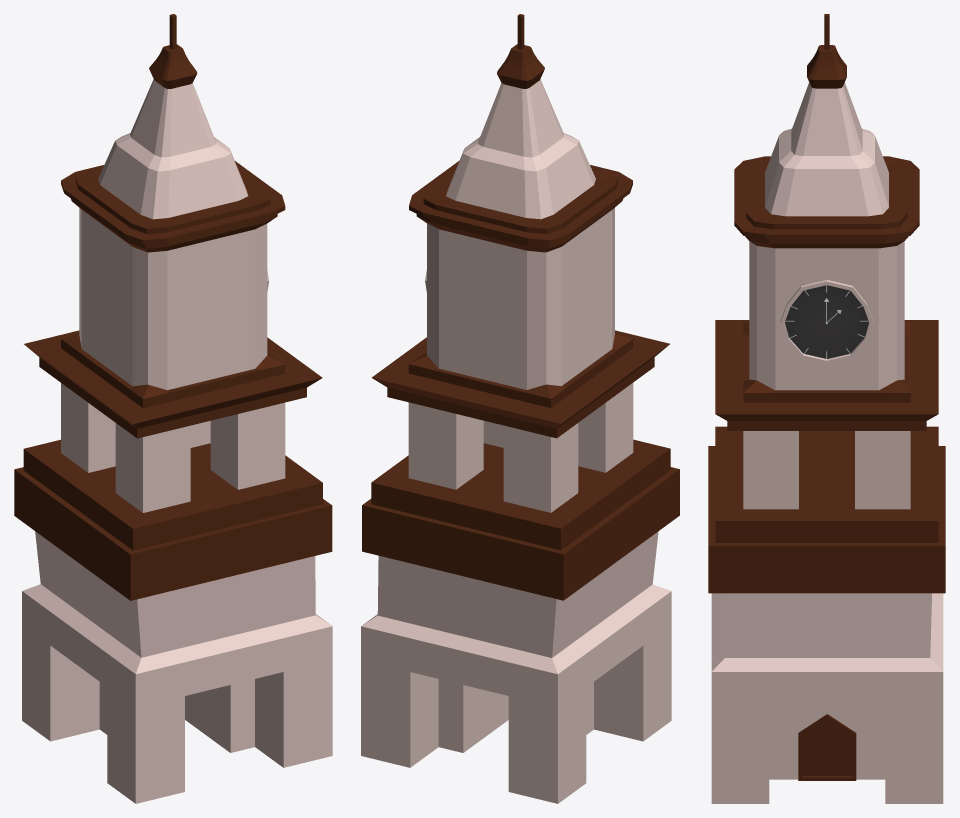
Rendered from clocktower.fbx.
The picture shows the model from 3 angles, left to right: view 1: azimuth 30°, elevation 25°; view 2: azimuth 150°, elevation 25°; view 3: azimuth 270°, elevation 25°; orthographic projection.
Parts seen in each view (by area): view 1: Cube.015; view 2: Cube.015; view 3: Cube.015.
Boxes of the visible parts, x1,y1,x2,y2 form: Cube.015: (14, 14, 332, 803); Cube.015: (361, 14, 679, 803); Cube.015: (708, 14, 945, 803).
Size of the model in its own units: 1863 by 6327 by 1844.
3 materials, 1 textured.
